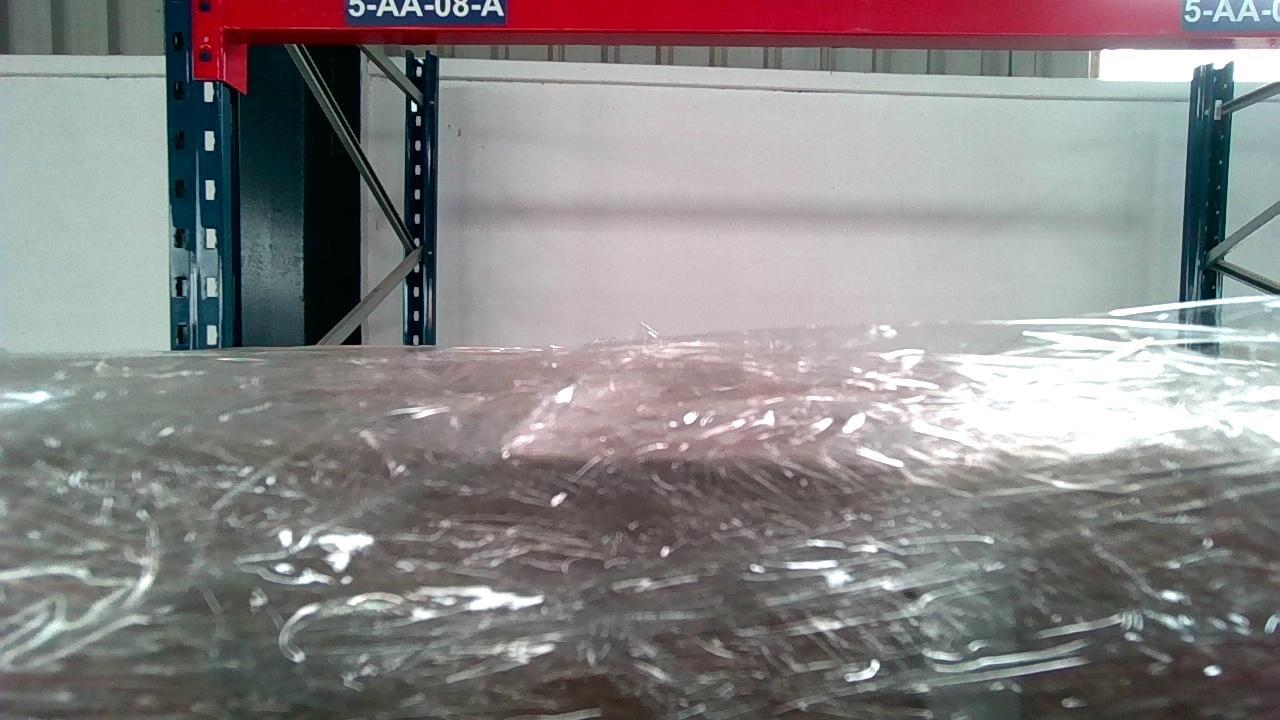h_rack: (223, 0, 1278, 32)
